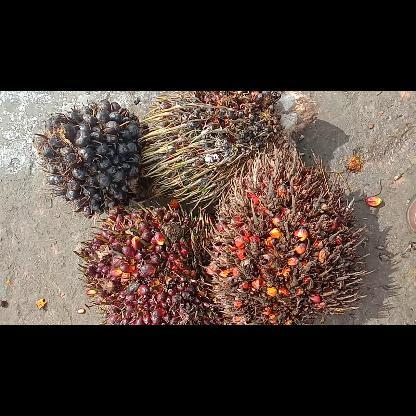TBS abnormal: (141, 91, 317, 205)
TBS masak: (73, 204, 217, 324)
TBS mentah: (30, 100, 148, 214)
Terlalu masak: (204, 148, 362, 324)
